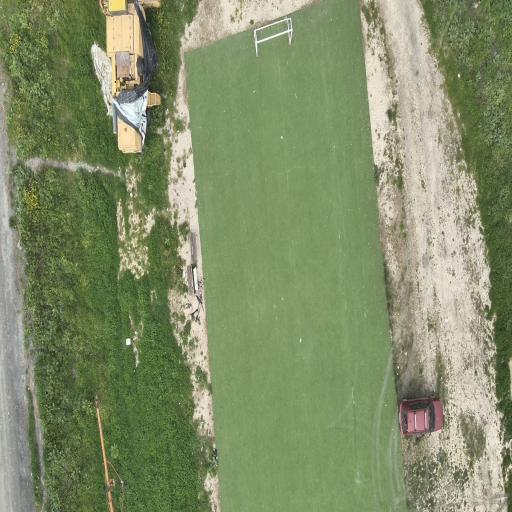car: (399, 397, 443, 435)
harvester: (101, 0, 160, 152)
